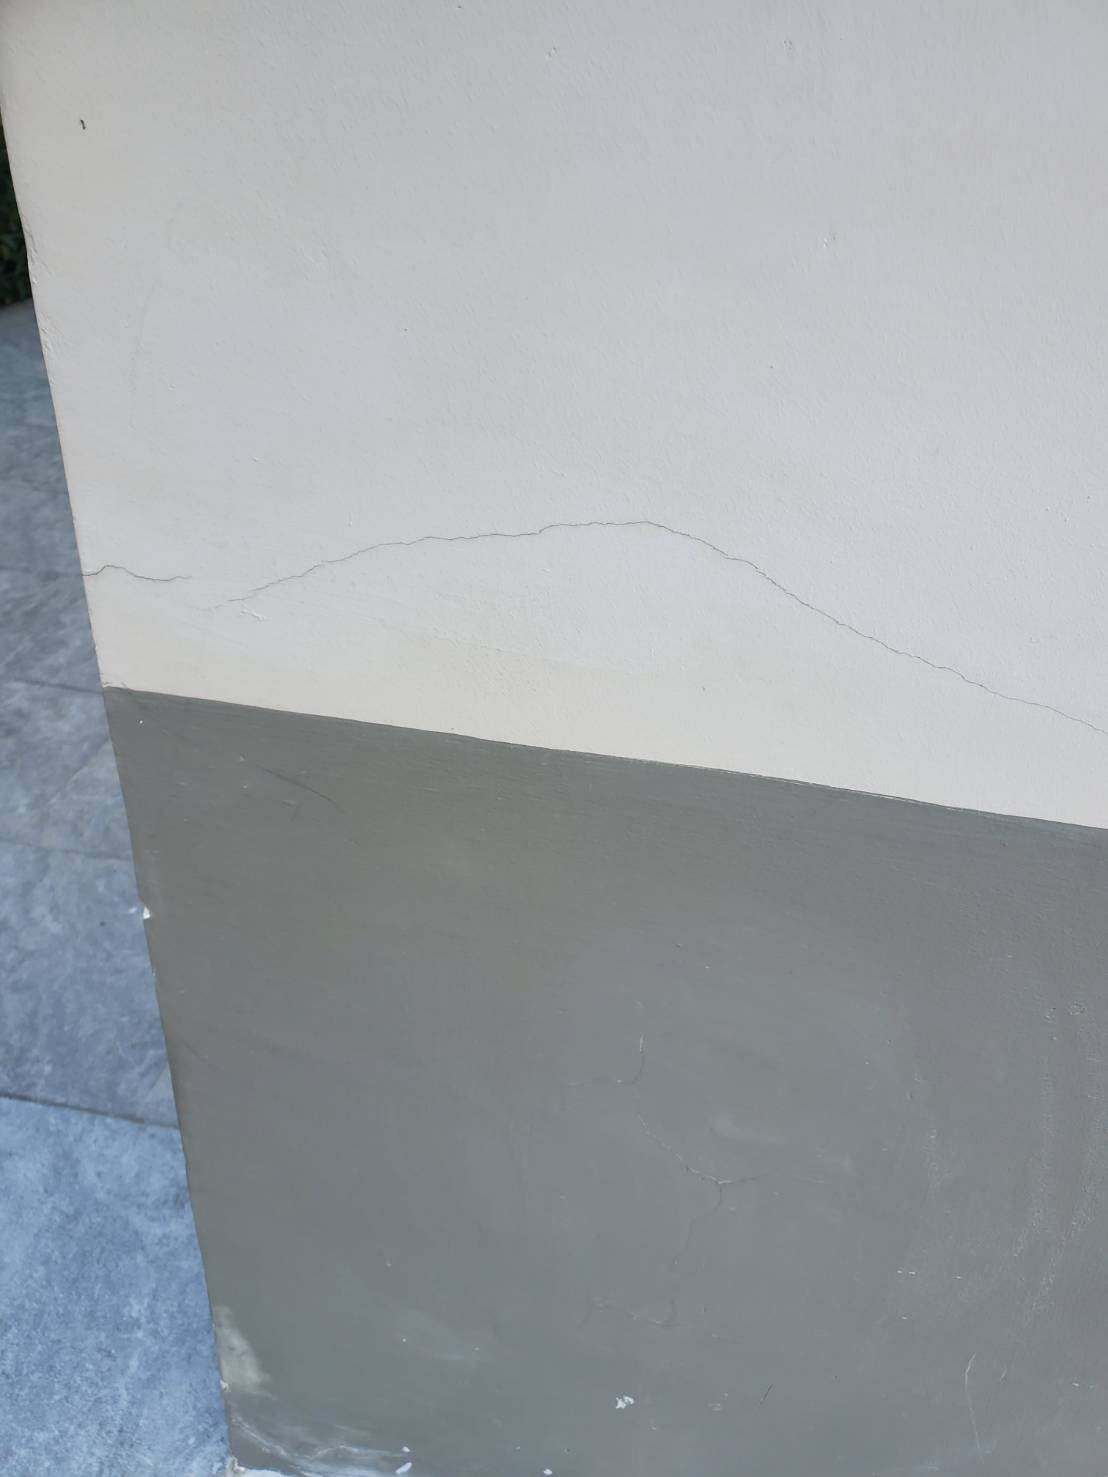Low: (77, 507, 1108, 779)
